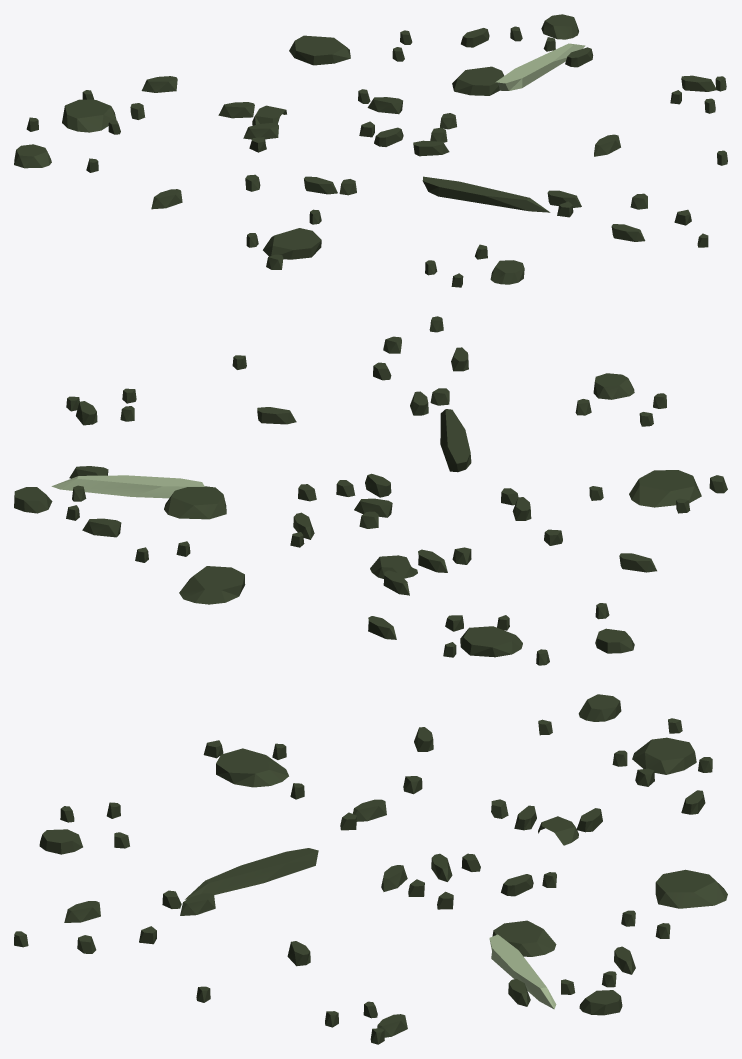
The model's file is EA_Swamp_Stones_04e.glb.
3 views of the same model, one above another, from view 1: azimuth 30°, elevation 25°; view 2: azimuth 150°, elevation 25°; view 3: azimuth 270°, elevation 25° (orthographic). The views are drawn at different scales.
Visible parts, largest first — view 1: EA_Swamp_Stones_04e; view 2: EA_Swamp_Stones_04e; view 3: EA_Swamp_Stones_04e.
Boxes of the visible parts, left/top/right/bottom form: EA_Swamp_Stones_04e: left=14, top=14, right=727, bottom=287; EA_Swamp_Stones_04e: left=14, top=316, right=727, bottom=665; EA_Swamp_Stones_04e: left=14, top=694, right=727, bottom=1044.
Size of the model in its own units: 9.31 by 0.1431 by 8.22.
1 material, 1 textured.
